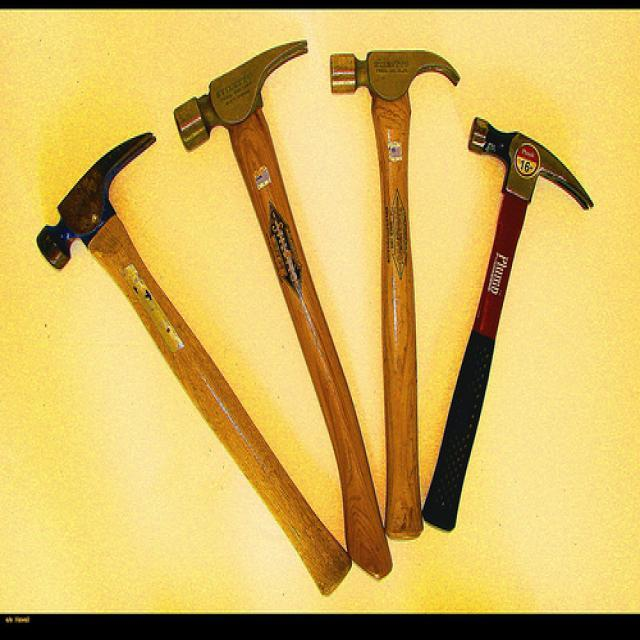hammer: (29, 124, 333, 610), (166, 33, 364, 576), (406, 104, 600, 554), (323, 45, 465, 536)
